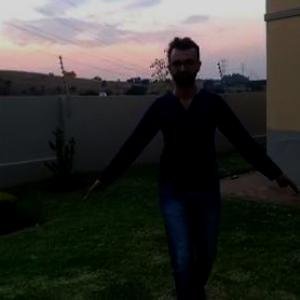land: (108, 44, 278, 273)
